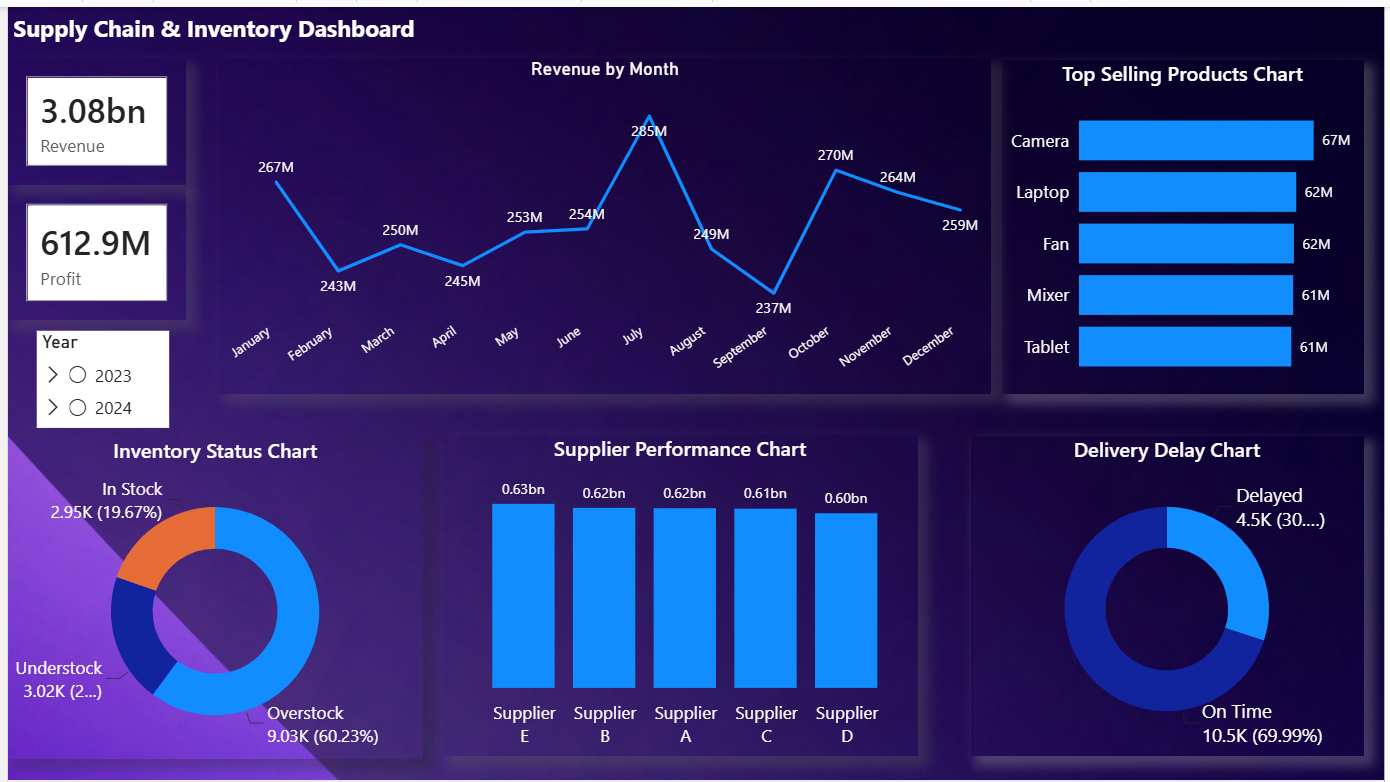

Layout of this report page (visuals, bound fields, positions):
{"tool":"powerbi","page":{"name":"Page 1","canvas":[1280,720],"ordinal":0},"visuals":[{"type":"textbox","box":[0,0,485,57.8],"z":0},{"type":"lineChart","fields":{"Y":["Dataset.Revenue"],"Category":["Dataset.Order_Date.Variation.Date Hierarchy.Month"]},"box":[196,47.9,717.7,311.6],"z":1000},{"type":"cardVisual","fields":{"Data":["Dataset.Revenue"]},"box":[0,47.9,165.9,118],"z":2000},{"type":"cardVisual","fields":{"Data":["Dataset.Profit"]},"box":[0,165.9,165.9,124.7],"z":3000},{"type":"donutChart","title":"Inventory Status Chart","fields":{"Category":["Dataset.Inventory Status"],"Y":["Count(Dataset.Product_ID)"]},"box":[0,400,385.7,299.6],"z":4000},{"type":"columnChart","title":"Supplier Performance Chart","fields":{"Category":["Dataset.Supplier_Name"],"Y":["Dataset.Revenue"]},"box":[404.7,397.6,441.3,298.9],"z":5000},{"type":"donutChart","title":"Delivery Delay Chart","fields":{"Y":["CountNonNull(Dataset.Product_ID)"],"Series":["Dataset.Delivery Status"]},"box":[895.2,399.3,365.6,298],"z":6000},{"type":"clusteredBarChart","title":"Top Selling Products Chart","fields":{"Category":["Dataset.Product_Name"],"Y":["Dataset.Profit"]},"box":[924.1,48.3,336.6,311.3],"z":7000},{"type":"listSlicer","fields":{"Values":["Dataset.Order_Date.Variation.Date Hierarchy.Year","Dataset.Order_Date.Variation.Date Hierarchy.Quarter","Dataset.Order_Date.Variation.Date Hierarchy.Month","Dataset.Order_Date.Variation.Date Hierarchy.Day"]},"box":[27.2,301.1,123.3,90.3],"z":8000}]}

Visuals, with their boxes in screenshot pixels (x1, y1, x2, y2), scaled from the page's 1280x720 canvas onto the 1390x782 screenshot:
textbox: [0, 0, 527, 63]
lineChart - Dataset.Revenue x Dataset.Order_Date.Variation.Date Hierarchy.Month: [213, 52, 992, 390]
cardVisual - Dataset.Revenue: [0, 52, 180, 180]
cardVisual - Dataset.Profit: [0, 180, 180, 316]
"Inventory Status Chart" donutChart: [0, 434, 419, 760]
"Supplier Performance Chart" columnChart: [439, 432, 919, 756]
"Delivery Delay Chart" donutChart: [972, 434, 1369, 757]
"Top Selling Products Chart" clusteredBarChart: [1004, 52, 1369, 391]
listSlicer - Dataset.Order_Date.Variation.Date Hierarchy.Year x Dataset.Order_Date.Variation.Date Hierarchy.Quarter: [30, 327, 163, 425]
